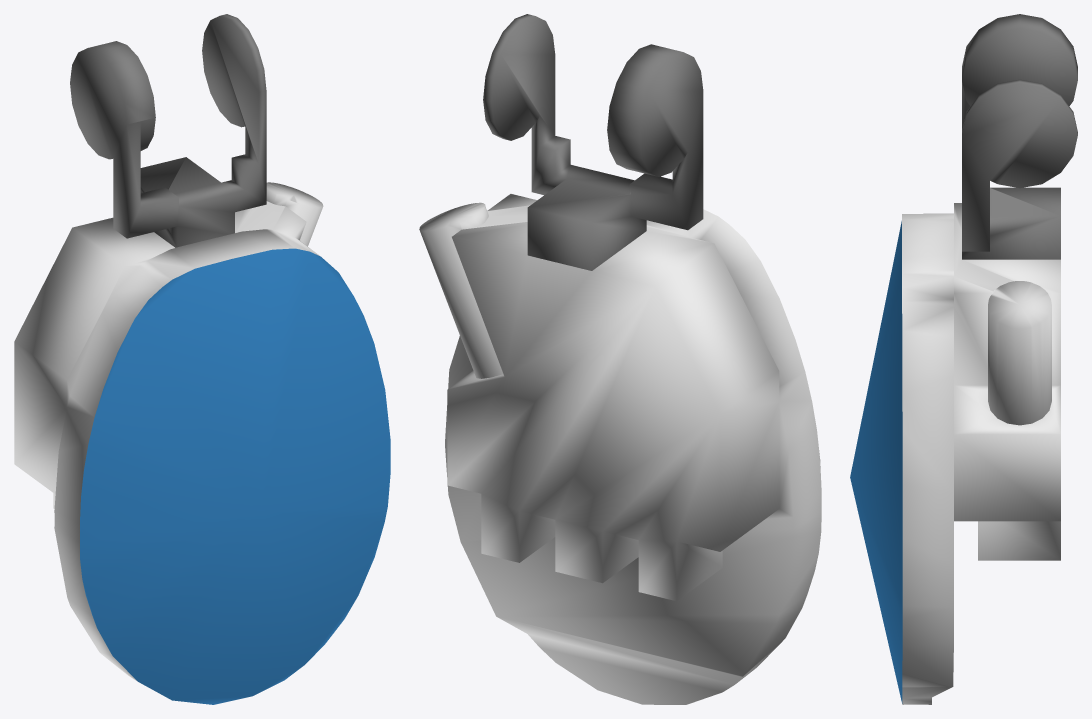
The model's file is R_WRIST_R.dae.
3 renders of one model, left to right at view 1: azimuth 30°, elevation 25°; view 2: azimuth 150°, elevation 25°; view 3: azimuth 270°, elevation 25°, orthographic. The views are drawn at different scales.
Visible parts, largest first — view 1: ShapeIndexedFaceS_133_001, ShapeIndexedFaceS_132_001, ShapeIndexedFaceS_134_001, ShapeIndexedFaceS_135_001; view 2: ShapeIndexedFaceS_132_001, ShapeIndexedFaceS_134_001, ShapeIndexedFaceS_135_001; view 3: ShapeIndexedFaceS_132_001, ShapeIndexedFaceS_134_001, ShapeIndexedFaceS_133_001, ShapeIndexedFaceS_135_001.
Part boxes in pixels (left/top/right/bottom): ShapeIndexedFaceS_133_001: left=80, top=248, right=390, bottom=704; ShapeIndexedFaceS_132_001: left=14, top=200, right=319, bottom=688; ShapeIndexedFaceS_134_001: left=70, top=14, right=266, bottom=247; ShapeIndexedFaceS_135_001: left=266, top=182, right=323, bottom=246; ShapeIndexedFaceS_132_001: left=445, top=194, right=821, bottom=704; ShapeIndexedFaceS_134_001: left=483, top=14, right=703, bottom=270; ShapeIndexedFaceS_135_001: left=419, top=203, right=503, bottom=378; ShapeIndexedFaceS_132_001: left=902, top=203, right=1060, bottom=704; ShapeIndexedFaceS_134_001: left=962, top=14, right=1077, bottom=259; ShapeIndexedFaceS_133_001: left=850, top=221, right=902, bottom=703; ShapeIndexedFaceS_135_001: left=988, top=281, right=1051, bottom=425.
Bounding box in the file's own units: 0.0914 × 0.057 × 0.1759.
